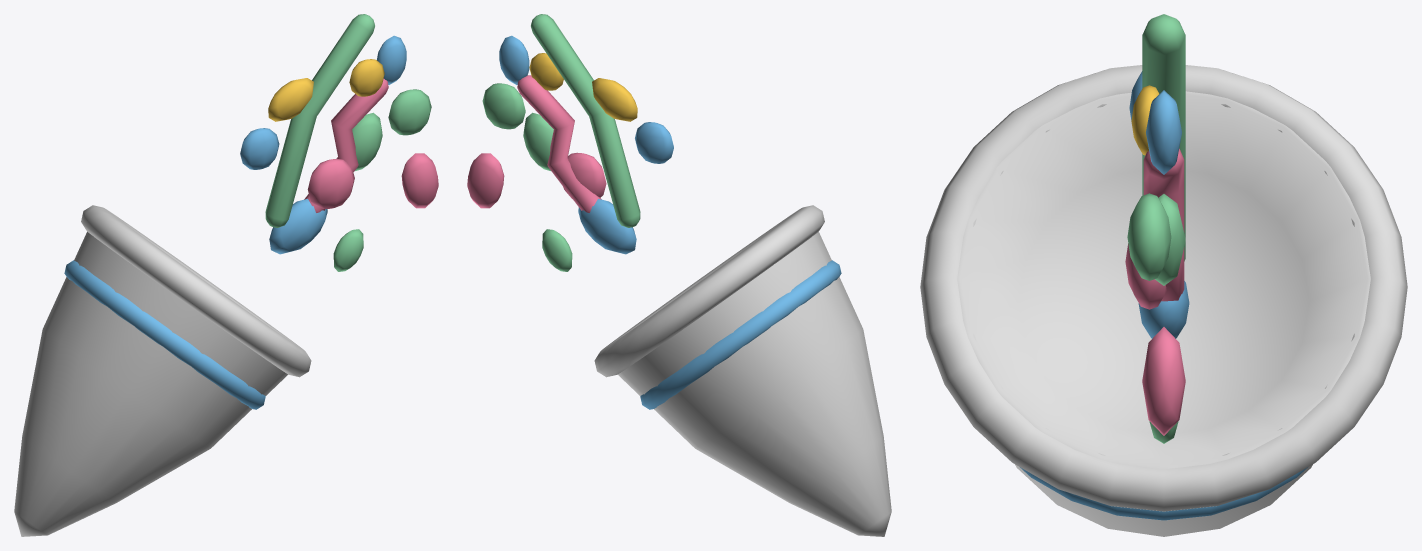
The model's file is party_confetti.glb.
The picture shows the model from 3 angles, left to right: view 1: azimuth 30°, elevation 25°; view 2: azimuth 150°, elevation 25°; view 3: azimuth 270°, elevation 25°; orthographic projection. The views are drawn at different scales.
Visible parts, largest first — view 1: party_confetti; view 2: party_confetti; view 3: party_confetti.
Boxes of the visible parts, x1,y1,x2,y2 form: party_confetti: (14, 14, 438, 536); party_confetti: (467, 14, 891, 536); party_confetti: (920, 14, 1407, 536).
Size of the model in its own units: 0.9986 by 1 by 0.5706.
